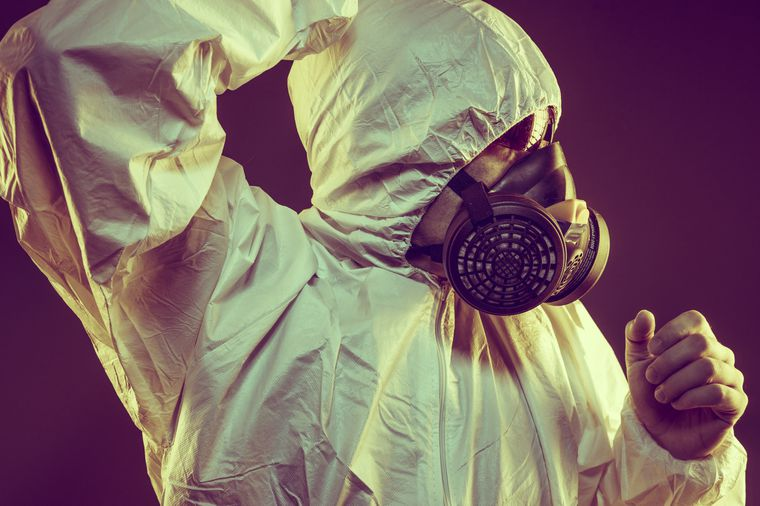with_mask: (354, 9, 627, 318)
